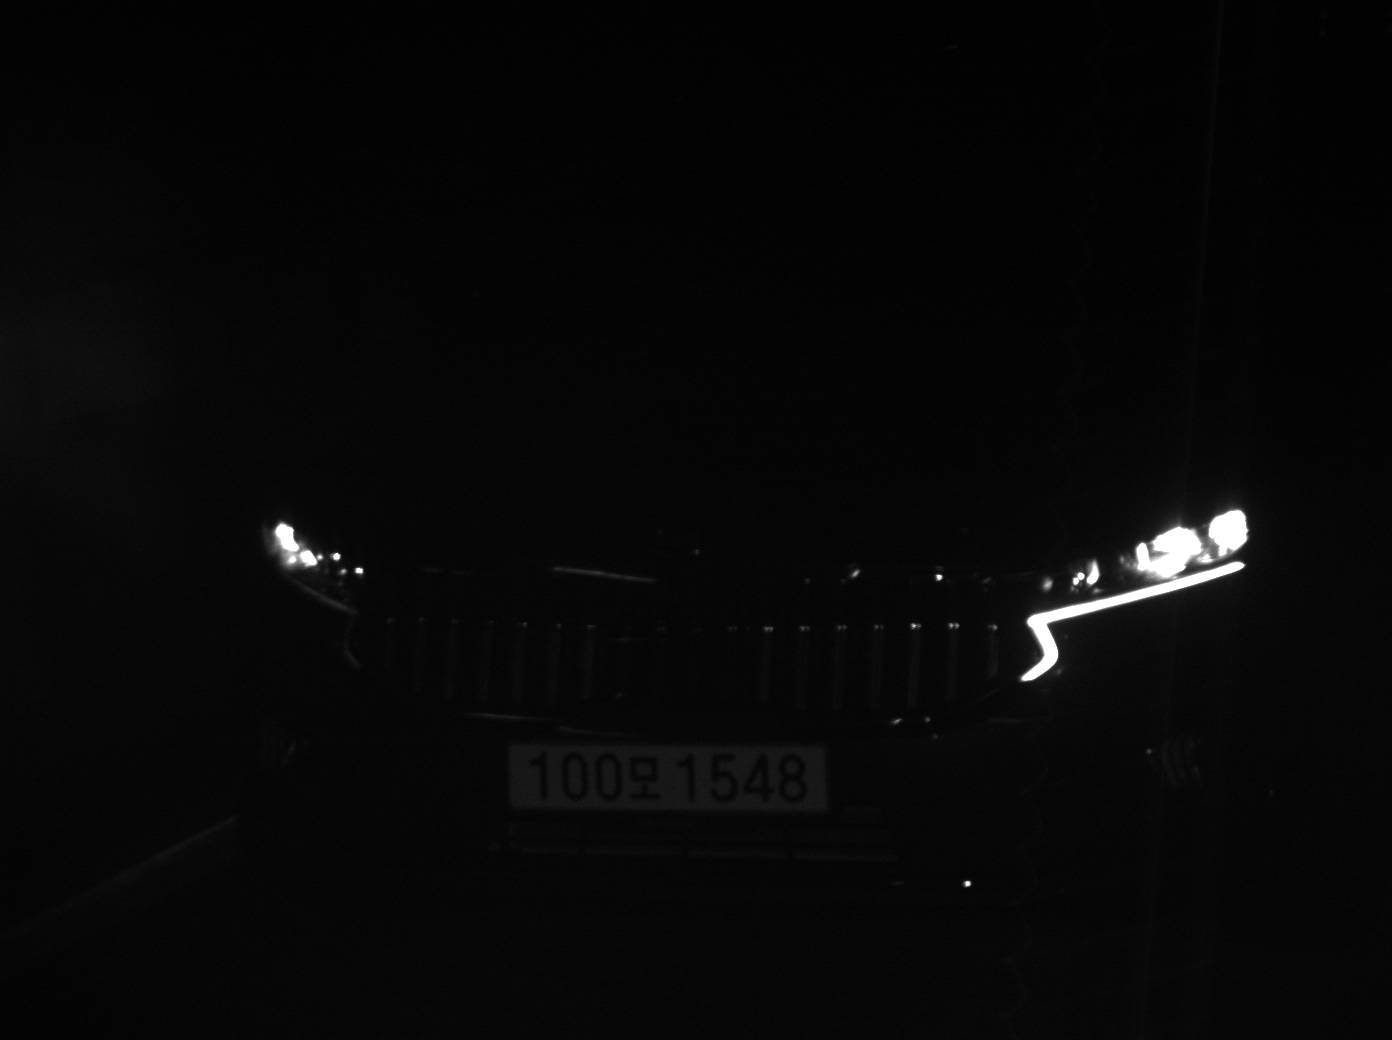car: (174, 1, 1390, 957)
plate: (473, 736, 834, 817)
